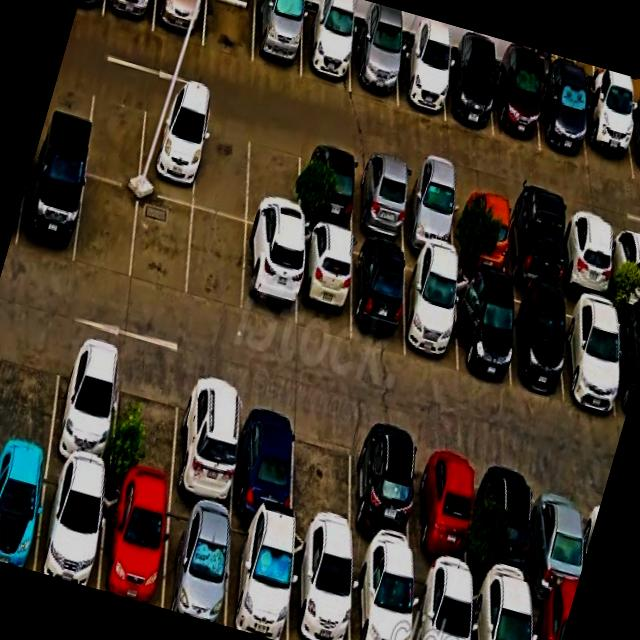empty: (110, 353, 181, 495), (0, 320, 63, 457), (292, 407, 352, 547), (74, 175, 139, 279), (84, 80, 147, 187), (130, 192, 192, 298), (246, 126, 301, 237), (186, 208, 245, 311), (193, 112, 249, 220), (203, 0, 255, 62)
occupied: (48, 335, 121, 476), (172, 371, 240, 513), (35, 461, 106, 589), (232, 389, 296, 527), (162, 497, 230, 626), (99, 480, 168, 607), (353, 423, 415, 564), (225, 516, 292, 640), (413, 438, 470, 580), (15, 155, 85, 264), (480, 456, 533, 595), (532, 470, 584, 606), (138, 96, 202, 206), (288, 532, 350, 640), (563, 295, 618, 415), (506, 284, 563, 397), (296, 226, 352, 341), (456, 271, 510, 387), (404, 255, 457, 372), (350, 240, 404, 353), (0, 449, 48, 570), (241, 225, 297, 327), (351, 552, 411, 640), (507, 197, 560, 293), (300, 141, 354, 234), (456, 183, 507, 276), (354, 155, 405, 246), (582, 91, 633, 180), (404, 168, 454, 258), (300, 9, 353, 92), (563, 211, 611, 301), (412, 566, 470, 640), (540, 76, 586, 165), (252, 0, 303, 78), (493, 64, 539, 150), (444, 54, 492, 136), (397, 40, 444, 120), (350, 27, 397, 104), (473, 581, 530, 640), (615, 308, 640, 421), (152, 0, 206, 46), (612, 223, 640, 308), (531, 596, 571, 640), (102, 0, 155, 31), (625, 102, 640, 182)
